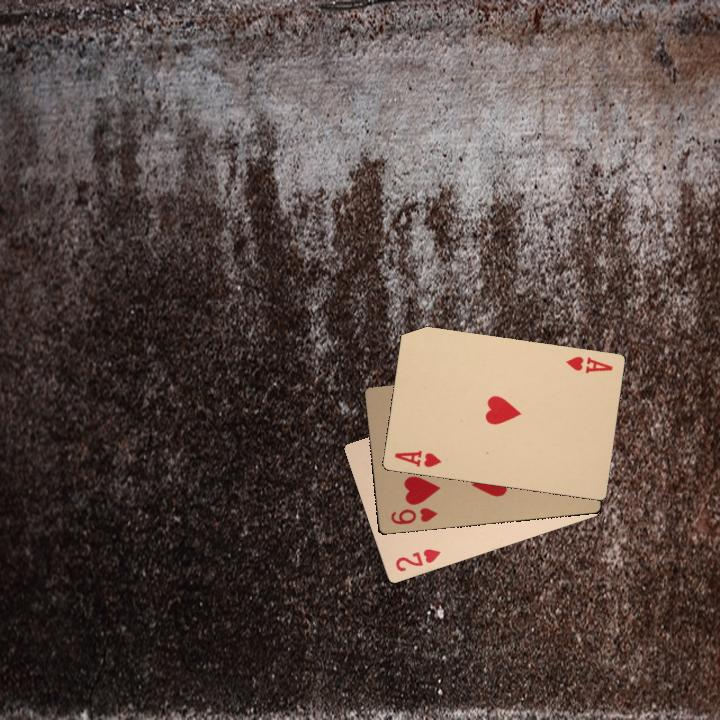2h: (391, 545, 443, 574)
6h: (387, 503, 438, 527)
Ah: (390, 446, 444, 470), (562, 352, 615, 376)
